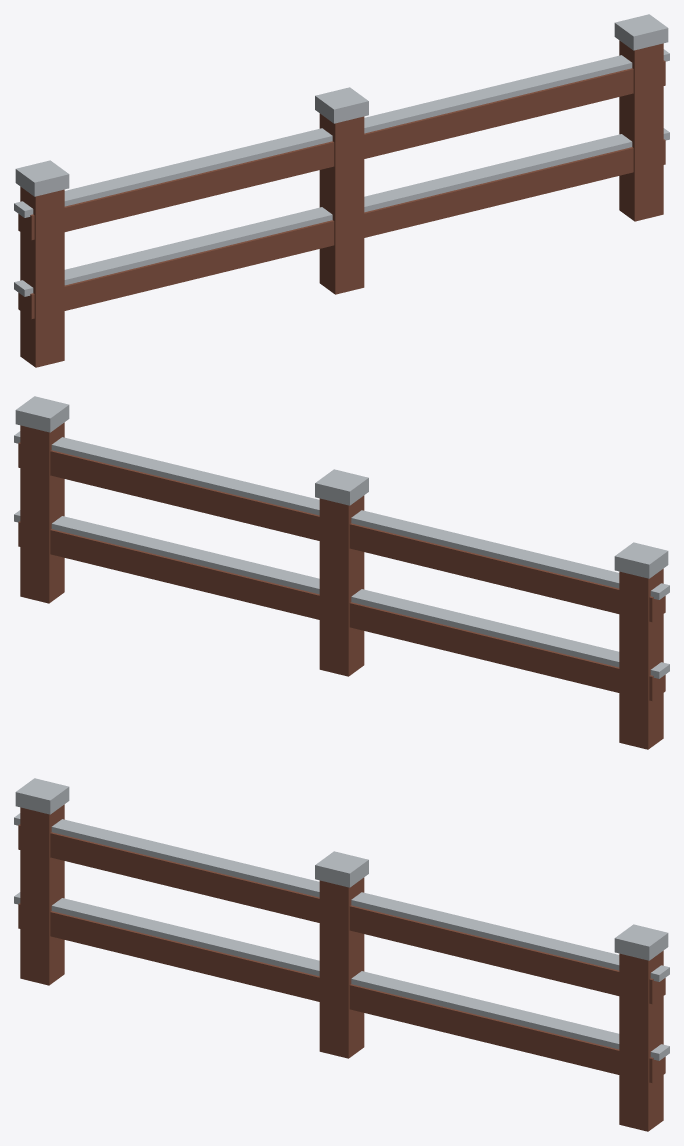
File: split-fence.glb
The picture shows the model from 3 angles, top to bottom: view 1: azimuth 30°, elevation 25°; view 2: azimuth 150°, elevation 25°; view 3: azimuth 330°, elevation 25°; orthographic projection.
Visible parts, largest first — view 1: split-fence; view 2: split-fence; view 3: split-fence.
Boxes of the visible parts, x1,y1,x2,y2 form: split-fence: [14, 14, 669, 367]; split-fence: [14, 396, 669, 749]; split-fence: [14, 778, 669, 1131].
Size of the model in its own units: 3.34 by 0.925 by 0.17.
